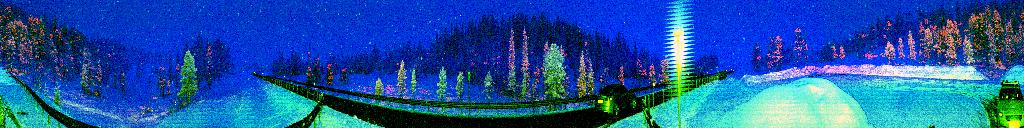pole: (652, 80, 656, 92), (314, 76, 316, 88)
